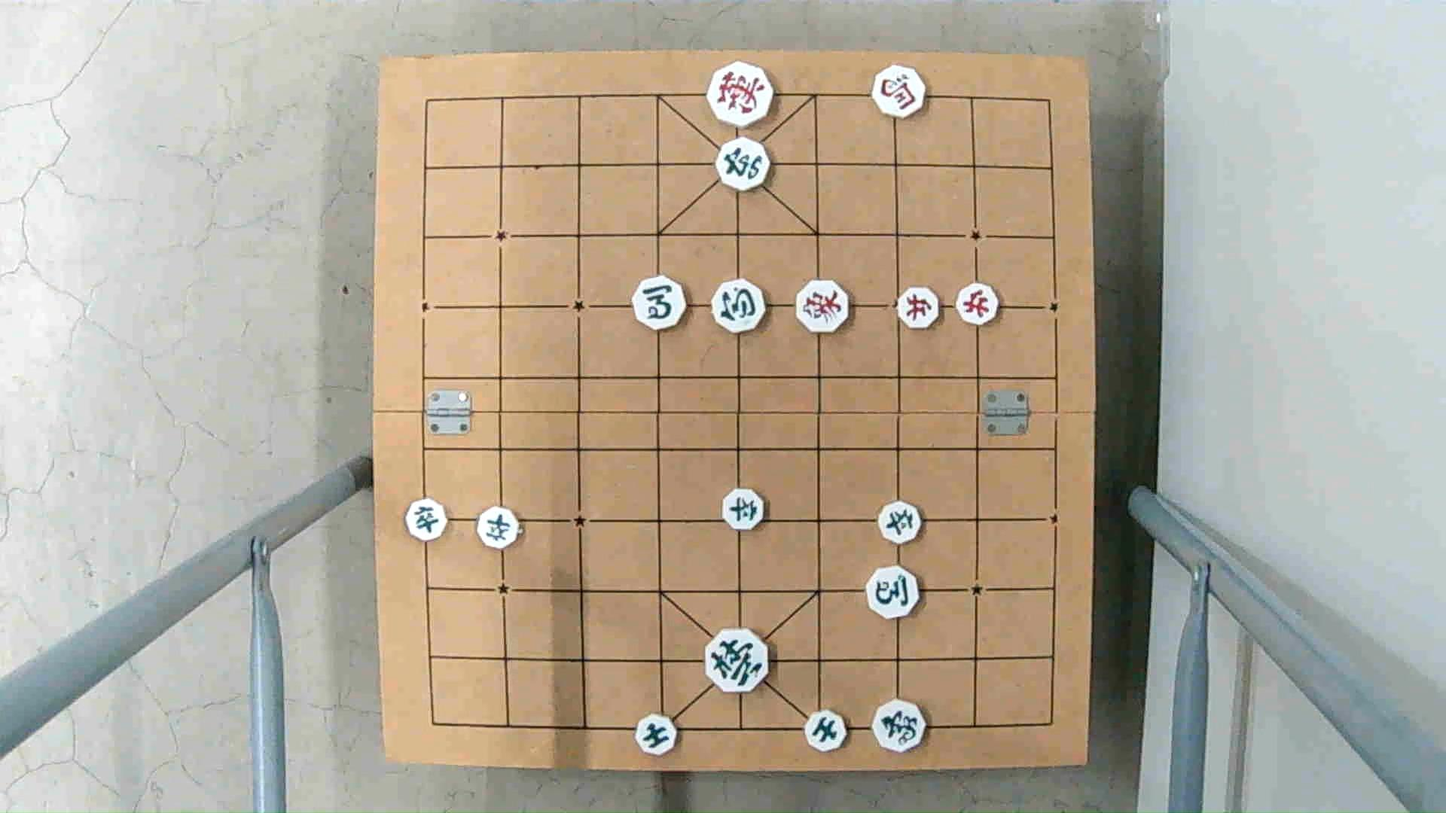cha_green: (715, 139, 770, 186)
jol_green: (879, 501, 923, 543), (721, 490, 766, 531), (477, 507, 522, 548), (407, 500, 449, 541)
jol_red: (956, 284, 999, 327), (895, 288, 938, 329)
ma_green: (632, 278, 690, 327), (865, 567, 921, 617)
ma_red: (873, 66, 927, 118)
po_green: (709, 282, 766, 330)
sa_green: (804, 712, 849, 751), (635, 715, 677, 756)
sang_green: (871, 700, 925, 752)
sang_red: (796, 279, 850, 333)
wang_green: (705, 632, 770, 692)
wang_red: (708, 65, 775, 123)
